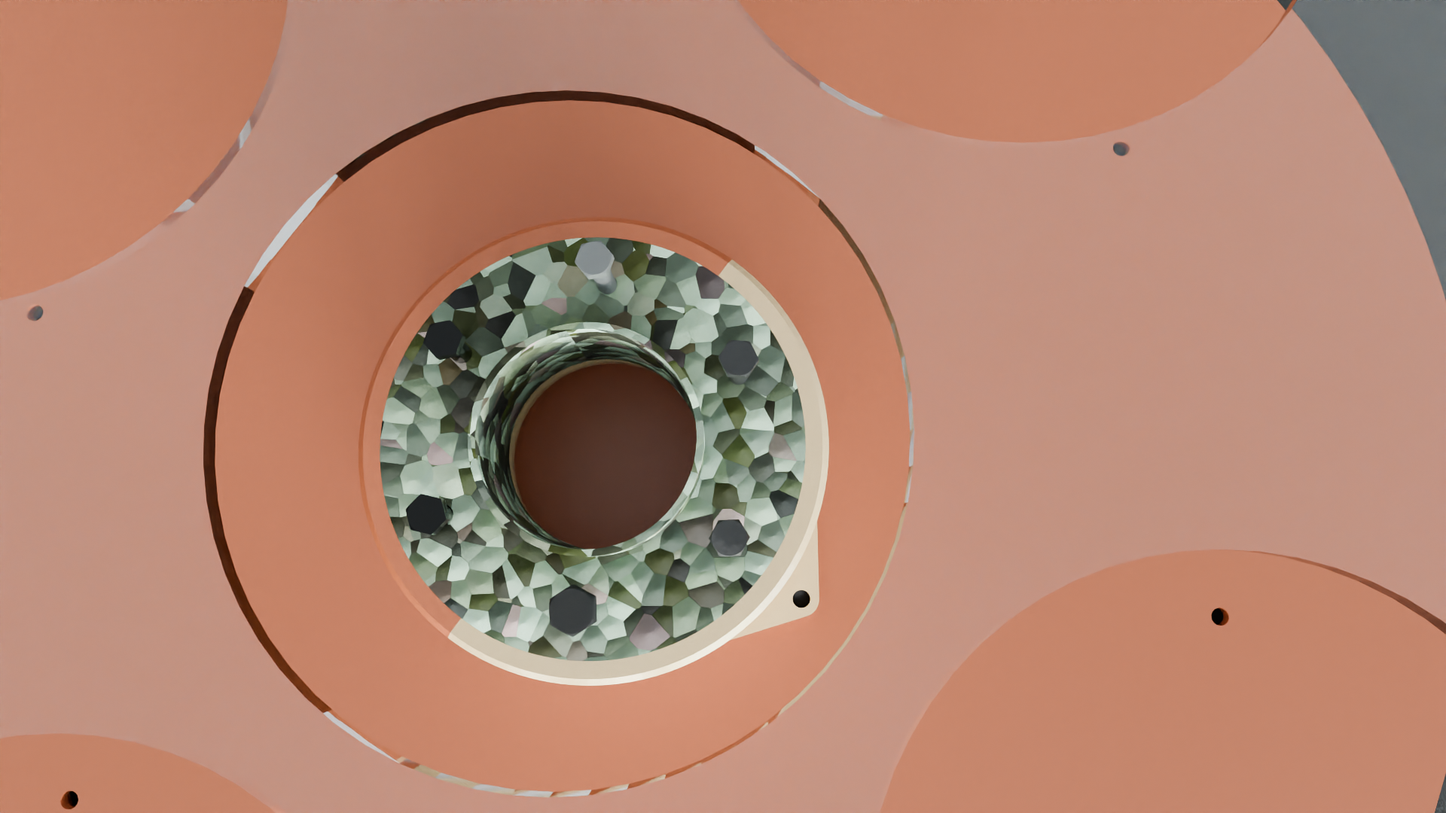bolt: (549, 585, 595, 637), (405, 494, 447, 535), (709, 519, 750, 556), (423, 320, 462, 358), (718, 340, 759, 376), (575, 241, 613, 276)
